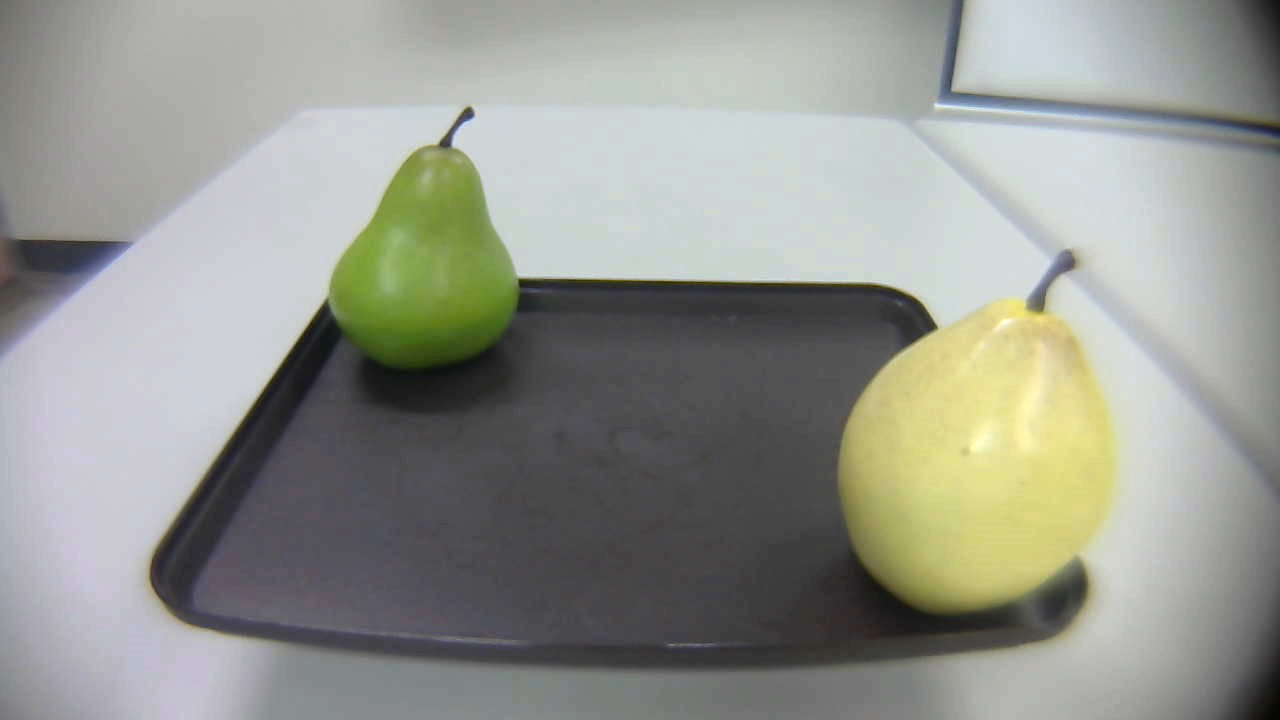green pear: (322, 103, 525, 379)
western pear: (818, 243, 1118, 622)
